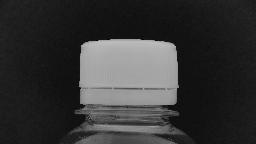Broken Ring: (72, 80, 186, 110)
